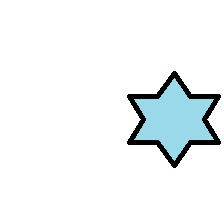star: (127, 70, 221, 168)
